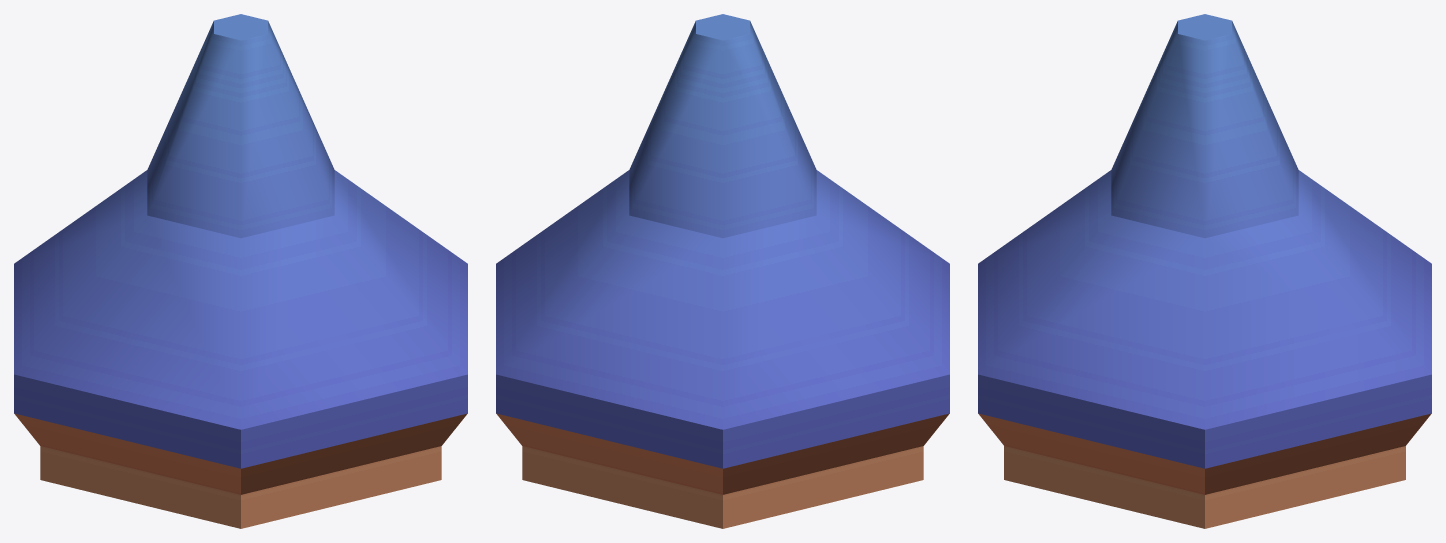
Rendered from tower-roof.glb.
The picture shows the model from 3 angles, left to right: view 1: azimuth 30°, elevation 25°; view 2: azimuth 150°, elevation 25°; view 3: azimuth 270°, elevation 25°; orthographic projection.
Visible parts, largest first — view 1: tower-hexagon-roof; view 2: tower-hexagon-roof; view 3: tower-hexagon-roof.
Part boxes in pixels (x1=…): tower-hexagon-roof: x1=14, y1=14, x2=467, y2=528; tower-hexagon-roof: x1=496, y1=14, x2=949, y2=528; tower-hexagon-roof: x1=978, y1=14, x2=1431, y2=528.
Bounding box in the file's own units: 0.9763 × 0.83 × 0.8456.
1 material, 1 textured.
